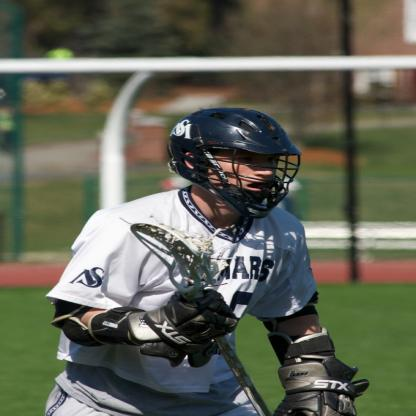Helmet: (165, 107, 301, 219)
